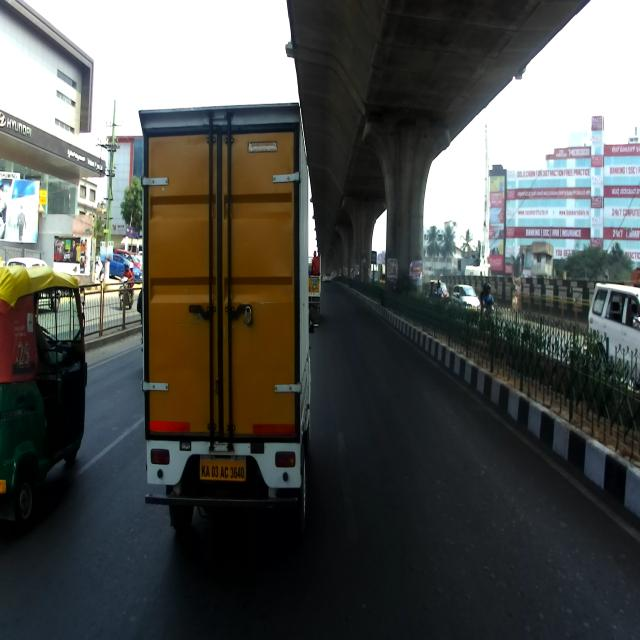auto ahead at: (0, 246, 93, 548)
truck ahead at: (135, 103, 310, 531)
